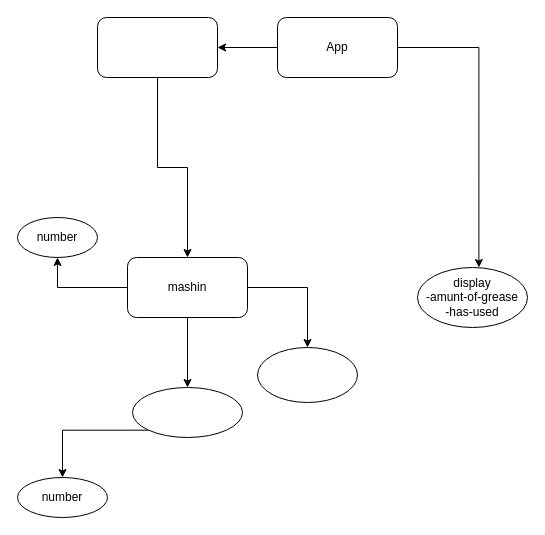
Image size: 545x535. Some labels were removed from this diagram. The shapes that lost their labels are listed below. From the top down, each one's centre as x and y in pixels, then its label:
At [157,47]: "list-of-mashins -that-need -maintanens".
At [307,374]: "how-much-greas -needs".
At [187,412]: "deffrent- greasing_point".
